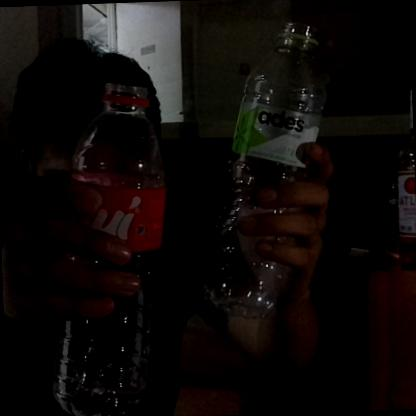plastic_bottles: (197, 21, 342, 326), (40, 77, 170, 416)
